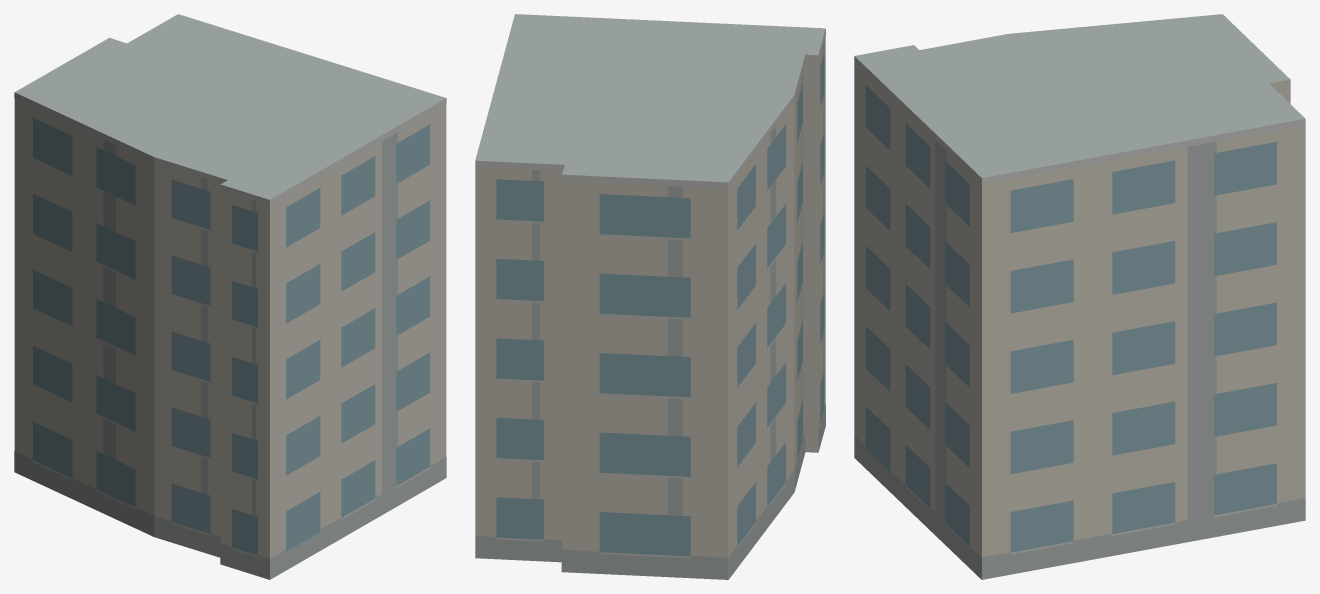
Rendered from survey-upis-32744036.glb.
3 renders of one model, left to right at view 1: azimuth 30°, elevation 25°; view 2: azimuth 150°, elevation 25°; view 3: azimuth 270°, elevation 25°, orthographic. The views are drawn at different scales.
Visible parts, largest first — view 1: survey-upis-32744036.tmp; view 2: survey-upis-32744036.tmp; view 3: survey-upis-32744036.tmp.
Boxes of the visible parts, left/top/right/bottom form: survey-upis-32744036.tmp: left=14, top=14, right=446, bottom=579; survey-upis-32744036.tmp: left=475, top=14, right=825, bottom=579; survey-upis-32744036.tmp: left=854, top=14, right=1305, bottom=579.
Size of the model in its own units: 13.45 by 15.35 by 15.64.
